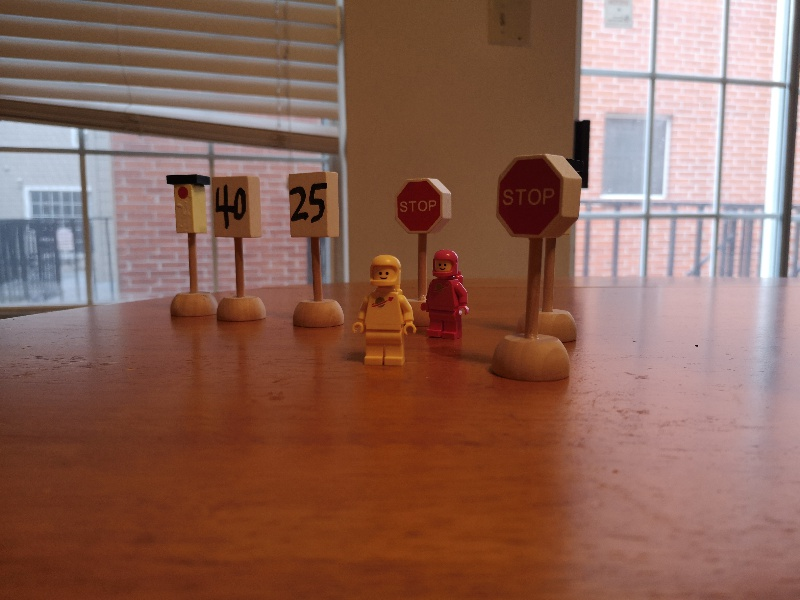Person: (351, 254, 417, 367), (420, 250, 471, 341)
Red Traffic Light: (165, 175, 211, 235)
Speed Limit 25: (286, 173, 343, 239)
Speed Limit 40: (210, 176, 264, 240)
Stop Sign: (493, 154, 582, 239), (396, 178, 452, 235)
